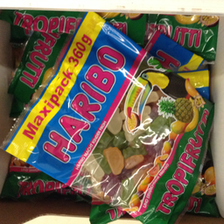candy: (11, 14, 212, 220)
